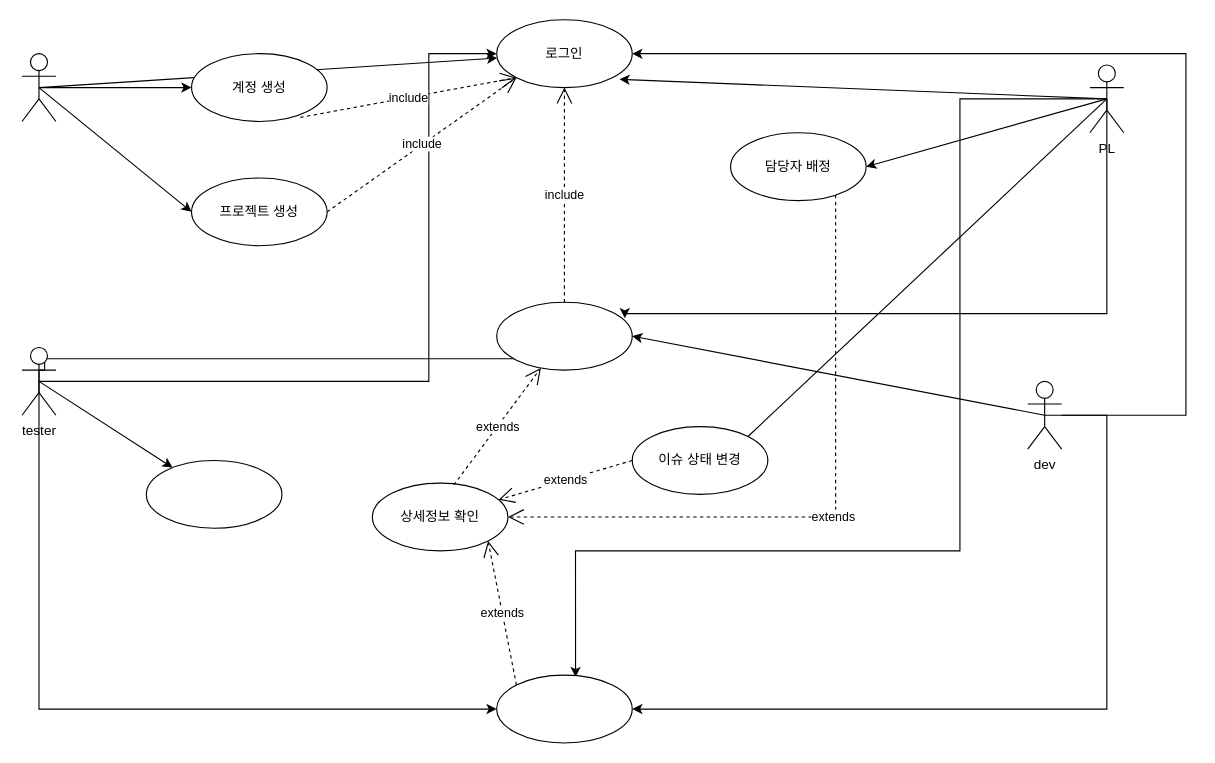
Some shapes in this 1215 by 763 pixel diagram are drawn without their labels. The shapes that lost their labels are listed below. From the top down, each one's centre as x and y in pixels, then its label:
pixel 38 87: Admin
pixel 564 335: 이슈 브라우즈
pixel 213 493: 이슈 생성
pixel 564 708: 이슈 코멘트 작성
